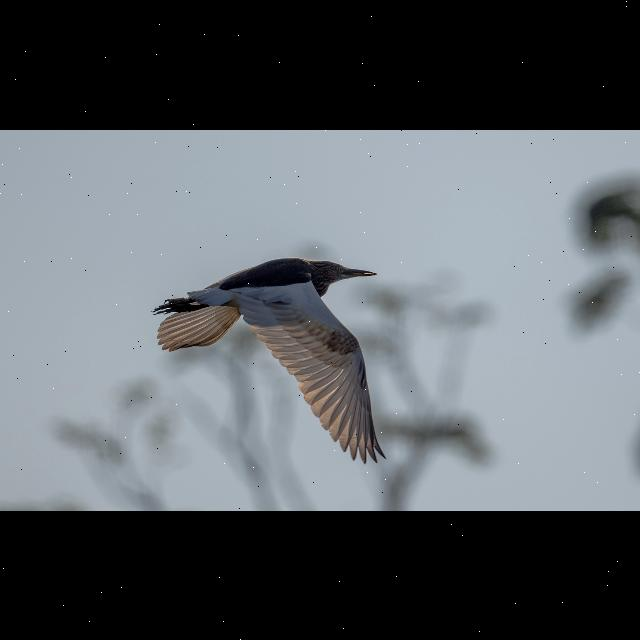heron: (144, 246, 392, 458)
